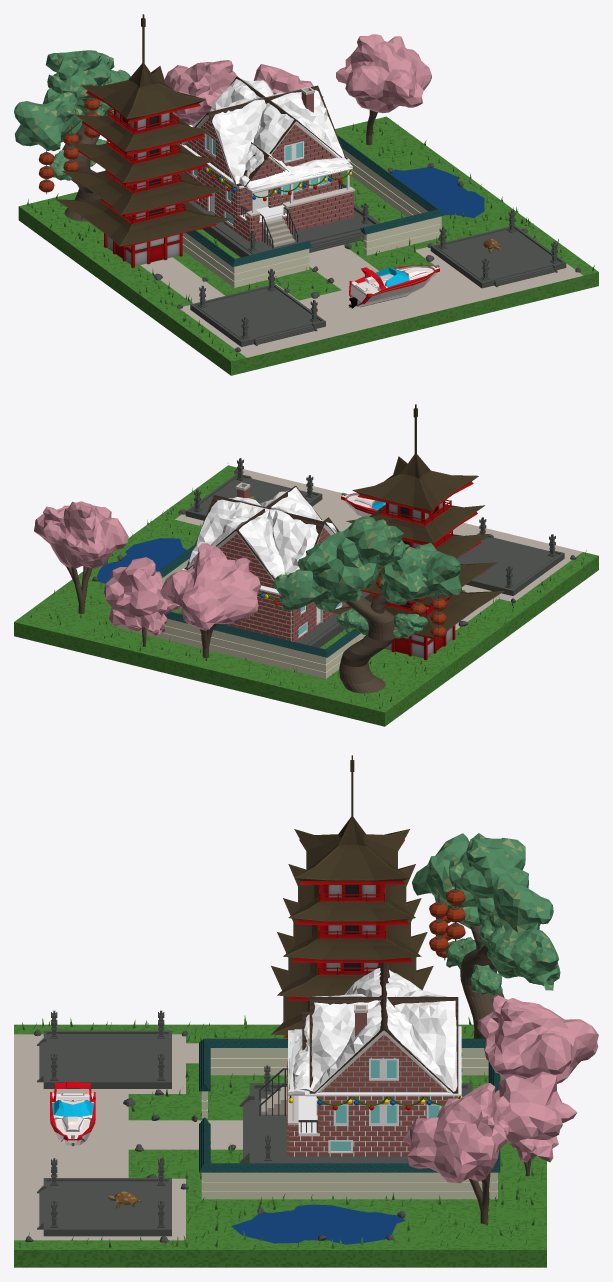
3 renders of one model, top to bottom at view 1: azimuth 30°, elevation 25°; view 2: azimuth 150°, elevation 25°; view 3: azimuth 270°, elevation 25°, orthographic. The views are drawn at different scales.
Parts seen in each view (by area): view 1: Cube.005, Cube.1419, VEHICLES_BOAT; view 2: Cube.005, Cube.1419, VEHICLES_BOAT; view 3: Cube.005, Cube.1419, VEHICLES_BOAT.
Part boxes in pixels (x1,y1,x2,y2): Cube.005: [14, 14, 598, 375]; Cube.1419: [179, 76, 355, 248]; VEHICLES_BOAT: [348, 264, 439, 308]; Cube.005: [14, 404, 598, 726]; Cube.1419: [181, 482, 347, 642]; VEHICLES_BOAT: [341, 492, 385, 516]; Cube.005: [14, 755, 598, 1267]; Cube.1419: [259, 961, 462, 1156]; VEHICLES_BOAT: [50, 1081, 95, 1146].
Size of the model in its own units: 4528 by 2690 by 4389.
Materials: 46 (5 with a texture image).
